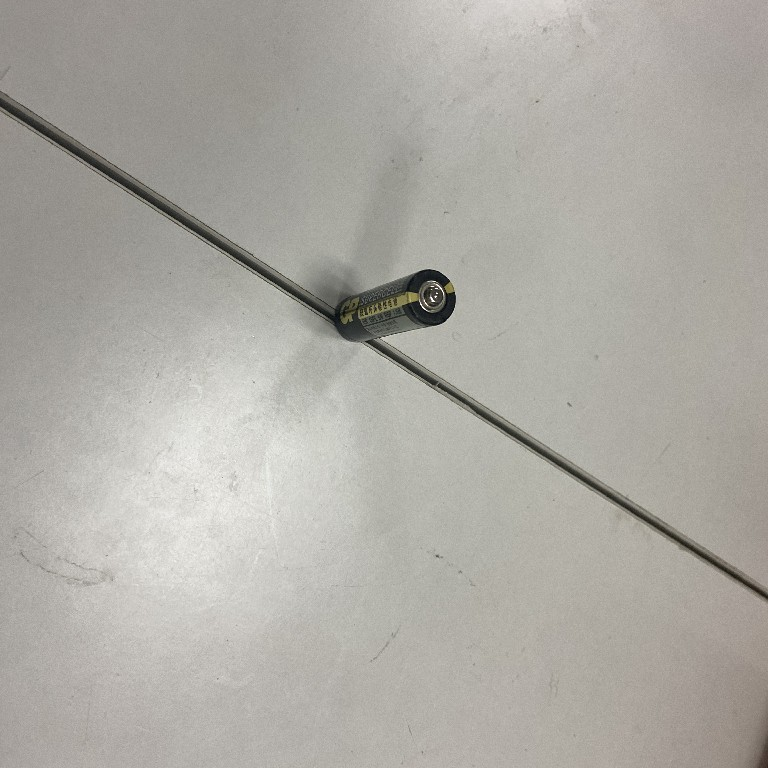charge: (329, 265, 460, 347)
